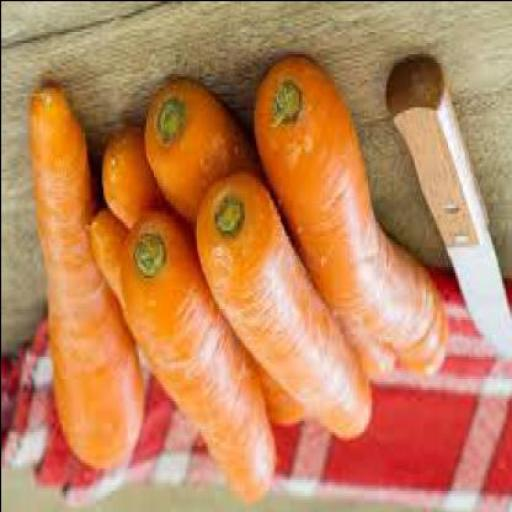biodegradable: (253, 56, 449, 383), (106, 134, 308, 433), (197, 165, 374, 450), (126, 213, 278, 511), (30, 92, 144, 473), (145, 78, 272, 243), (91, 210, 134, 333)
metal: (448, 240, 511, 368)
